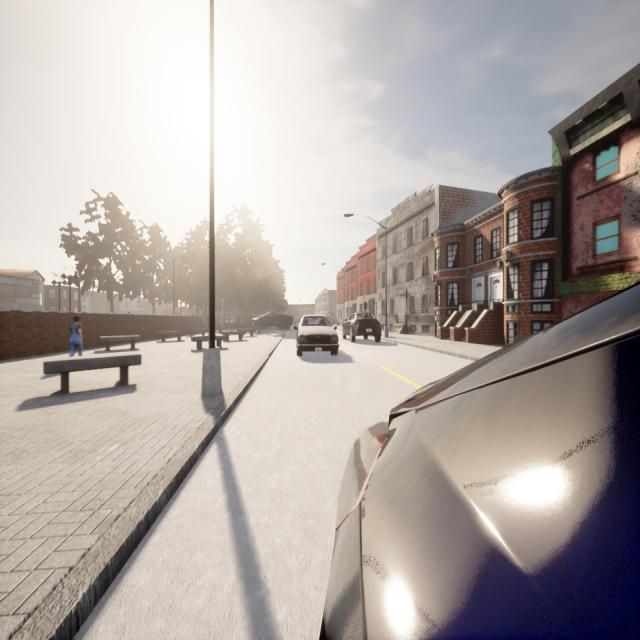Pedestrian: (69, 314, 83, 356)
Vehicle: (321, 283, 640, 640), (295, 316, 339, 358), (342, 314, 382, 344), (251, 310, 293, 329)
traffic_light: (363, 298, 367, 310)
